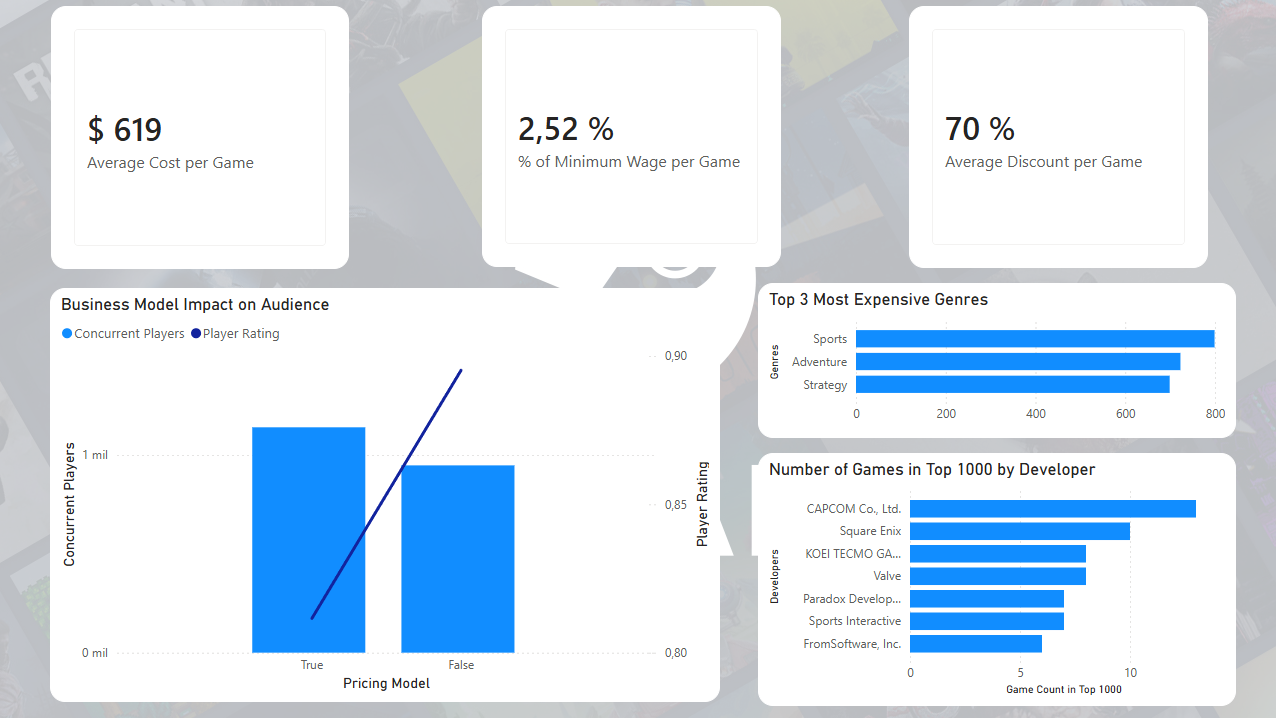

The page's visual inventory and layout, read from the dashboard file:
{"tool":"powerbi","page":{"name":"Página 1","canvas":[1280,720],"ordinal":0},"visuals":[{"type":"cardVisual","fields":{"Data":["Median(juegosSteam_limpio.price_uyu)"]},"box":[52.5,6.2,298.8,262.5],"z":0},{"type":"cardVisual","fields":{"Data":["juegosSteam_limpio.PctSalarioMinimo"]},"box":[484.1,6.4,298.6,260.7],"z":1000},{"type":"cardVisual","fields":{"Data":["juegosSteam_limpio.Descuento_Medio_Formateado"]},"box":[911.1,6.4,298.6,261.6],"z":2000},{"type":"barChart","title":"Top 3 Most Expensive Genres","fields":{"Y":["Median(GeneroExpandido.price_uyu)"],"Category":["GeneroExpandido.genres"]},"box":[760.3,282.6,477.6,155.6],"z":3000},{"type":"lineClusteredColumnComboChart","title":"Business Model Impact on Audience","fields":{"Y":["Median(juegosSteam_limpio.ccu)"],"Y2":["Median(juegosSteam_limpio.review_score)"],"Category":["juegosSteam_limpio.is_free"]},"box":[52.2,288.3,670,413.3],"z":4000},{"type":"clusteredBarChart","title":"Number of Games in Top 1000 by Developer","fields":{"Category":["juegosSteam_limpio.developers"],"Y":["CountNonNull(juegosSteam_limpio.name)"]},"box":[760,453.1,477.5,252.5],"z":5000}]}

Visuals, with their boxes in screenshot pixels (x1, y1, x2, y2), scaled from the page's 1280x720 canvas onto the 1276x718 screenshot:
cardVisual - Median(juegosSteam_limpio.price_uyu): <box>52,6,350,268</box>
cardVisual - juegosSteam_limpio.PctSalarioMinimo: <box>483,6,780,266</box>
cardVisual - juegosSteam_limpio.Descuento_Medio_Formateado: <box>908,6,1206,267</box>
"Top 3 Most Expensive Genres" barChart: <box>758,282,1234,437</box>
"Business Model Impact on Audience" lineClusteredColumnComboChart: <box>52,287,720,700</box>
"Number of Games in Top 1000 by Developer" clusteredBarChart: <box>758,452,1234,704</box>
